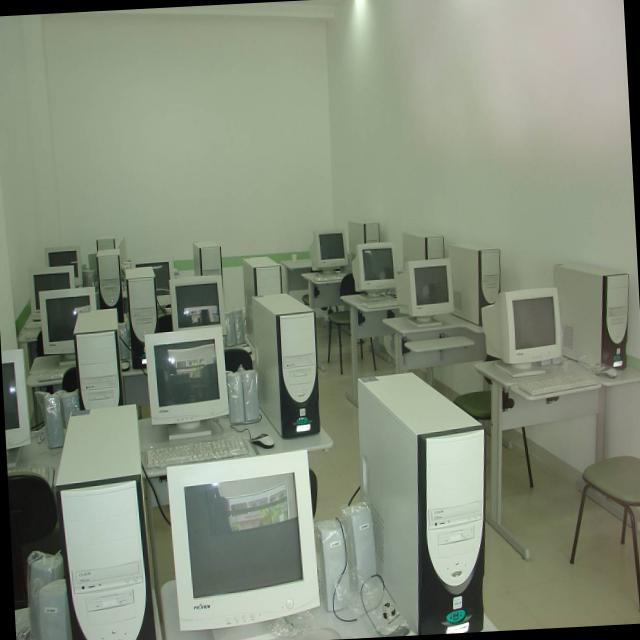CPU occluded: (357, 371, 484, 632), (55, 405, 155, 640), (252, 292, 321, 437), (553, 258, 627, 371)
CPU ocluded: (73, 308, 125, 409), (446, 240, 501, 327), (242, 255, 281, 346), (125, 265, 159, 366), (401, 227, 443, 271), (346, 218, 380, 271), (96, 232, 128, 280), (192, 240, 221, 276)
ceiling beam: (95, 0, 338, 24)
chair cushion: (571, 453, 640, 611)
chair part: (328, 272, 356, 370)
desk calendar: (473, 349, 640, 558)
desk organizer: (160, 549, 496, 640), (5, 401, 331, 484), (29, 324, 268, 384), (385, 309, 490, 369), (339, 291, 399, 393), (302, 270, 355, 308)
floor -X: (10, 320, 640, 640)
keyboard crop: (145, 435, 254, 470), (516, 369, 595, 395)
loudspeaker: (314, 518, 353, 611)
monitor crop: (168, 449, 321, 640), (144, 325, 229, 439), (482, 286, 561, 376), (396, 257, 454, 325), (350, 242, 396, 299), (308, 227, 349, 273)
monitor occlude: (1, 348, 29, 466)
monitor ocluded: (39, 285, 96, 364), (168, 274, 224, 334), (27, 264, 74, 319), (44, 245, 81, 285)
mouse pad: (593, 362, 617, 375), (250, 434, 274, 447)
wall clock: (325, 0, 640, 516), (38, 12, 337, 338), (0, 14, 63, 516)
